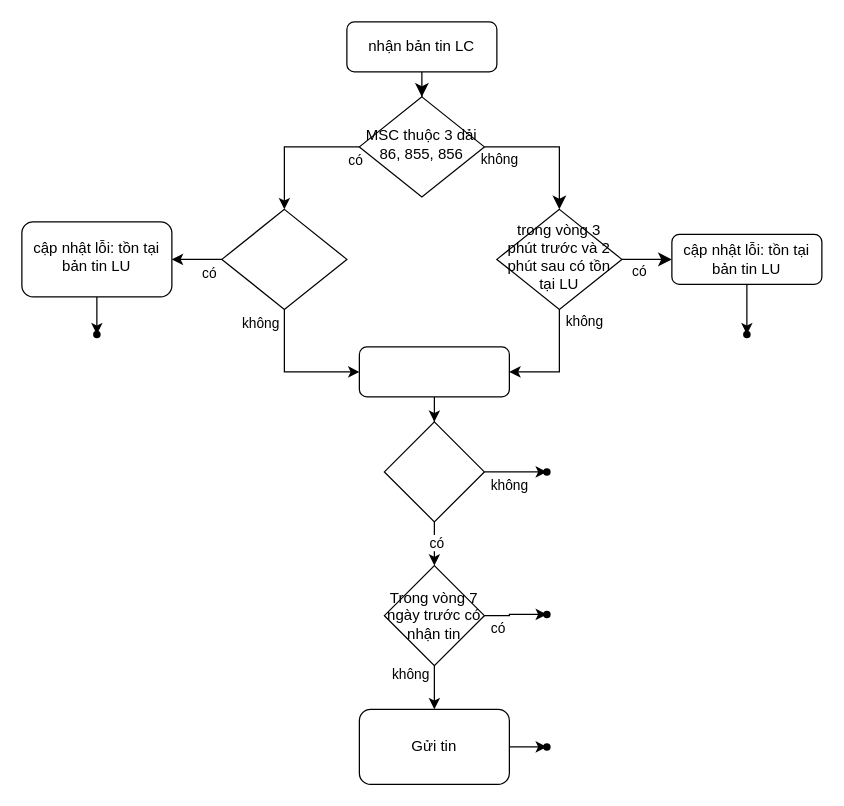
Image size: 844x806. Some labels were removed from this diagram. Here are the shapes that lost their labels. From the top down, the box of each, then its label:
(221, 208, 347, 309): trong vòng 30 phút trước và 2 phút sau có tồn tại LU
(358, 346, 509, 397): lấy thông tin thuê bao trên CM
(383, 421, 484, 522): VLR ở Vietnam
